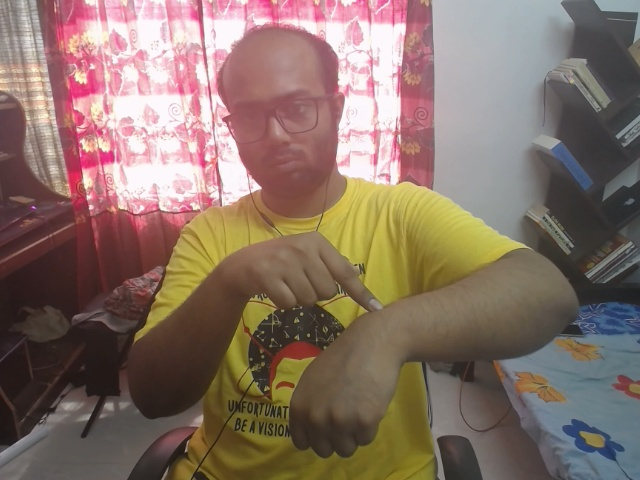time: (153, 212, 441, 464)
